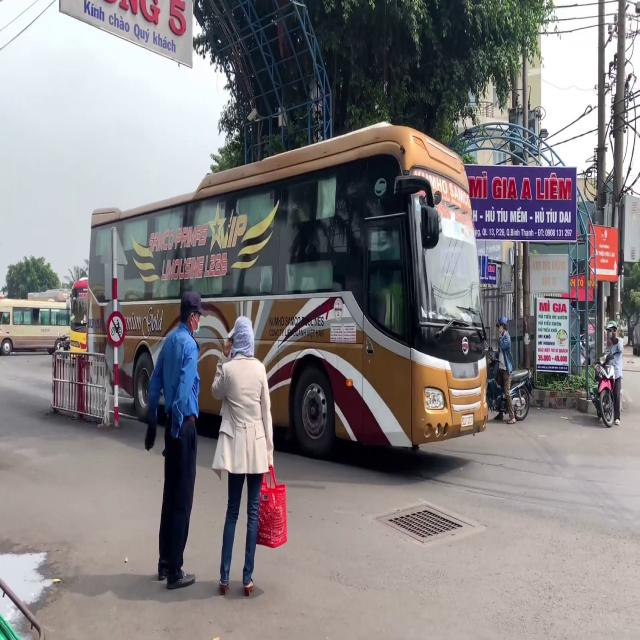bien_trang: (460, 414, 476, 426)
